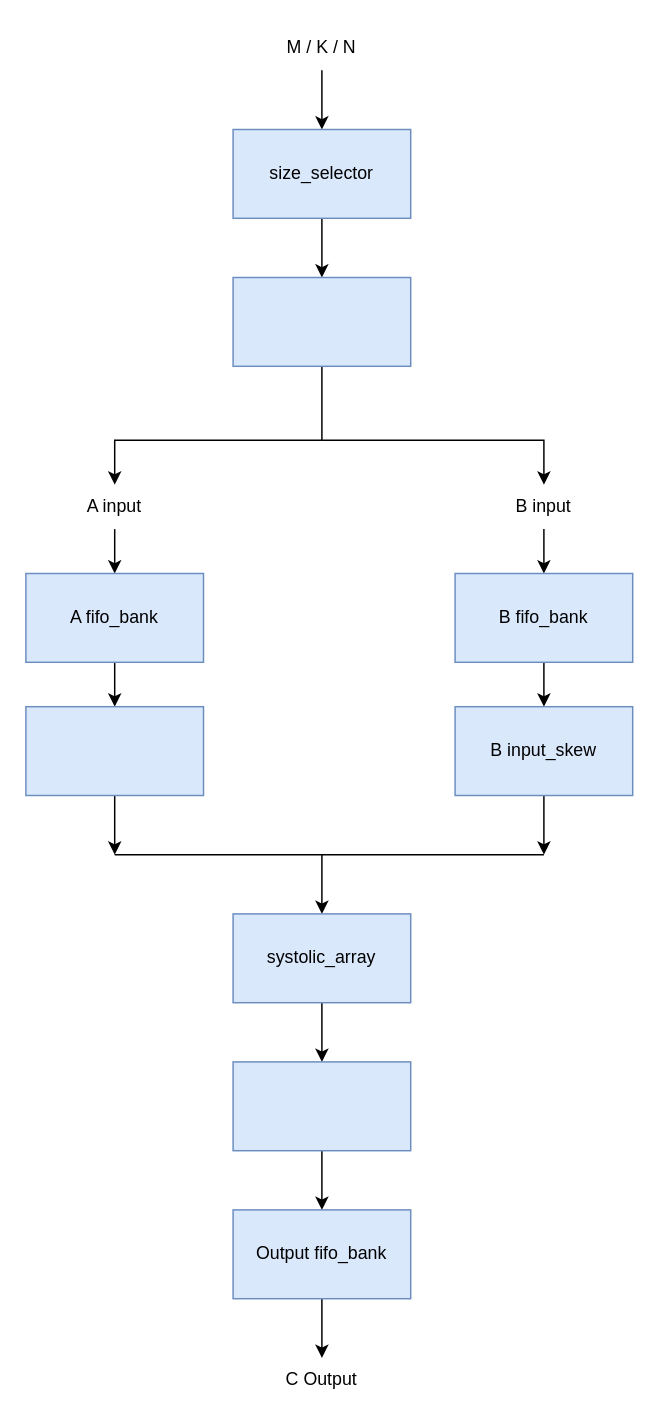
This 659x1427 diagram has some shape labels left out. The centre of each missing label's shape, as x and y in pixels:
"A input_skew" belongs at (114,750).
"result_drain" belongs at (321,1105).
"tile_controller" belongs at (321,321).
